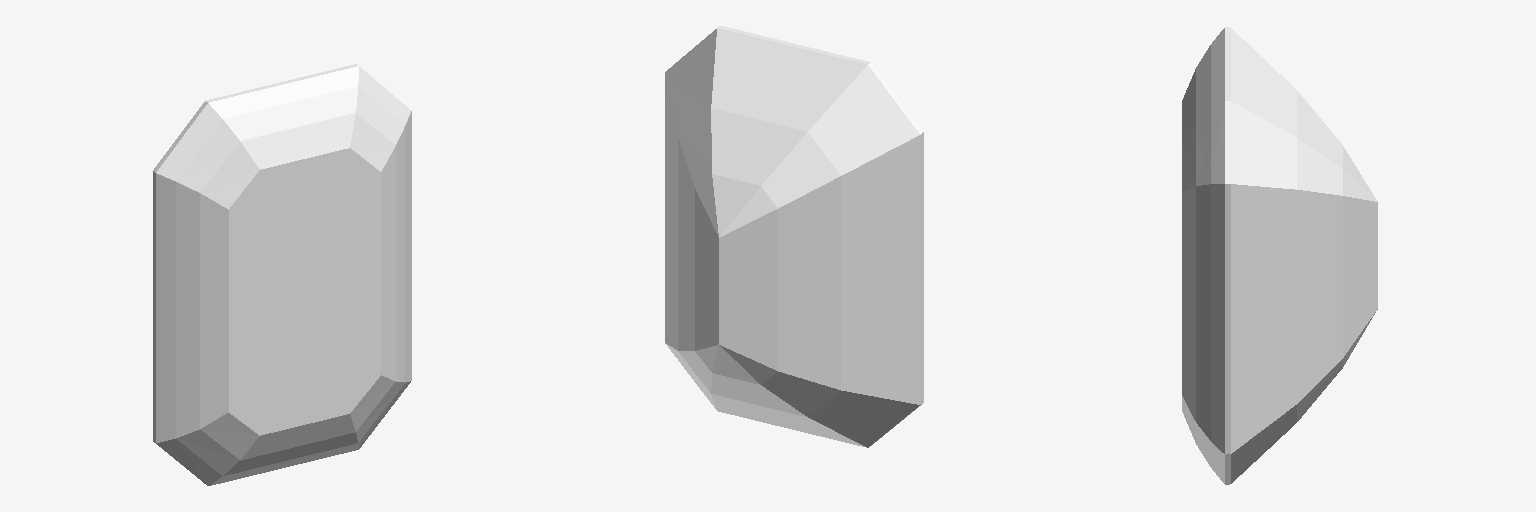
File: CristalFalso.obj
The picture shows the model from 3 angles: view 1: azimuth 30°, elevation 25°; view 2: azimuth 150°, elevation 25°; view 3: azimuth 270°, elevation 25°; orthographic projection.
Visible parts, largest first — view 1: Diamonds1_Diamond_R2; view 2: Diamonds1_Diamond_R2; view 3: Diamonds1_Diamond_R2.
Part boxes in pixels (left/top/right/bottom): Diamonds1_Diamond_R2: left=153, top=64, right=411, bottom=485; Diamonds1_Diamond_R2: left=665, top=26, right=923, bottom=447; Diamonds1_Diamond_R2: left=1182, top=27, right=1377, bottom=484.
Size of the model in its own units: 19.98 by 28.64 by 13.25.